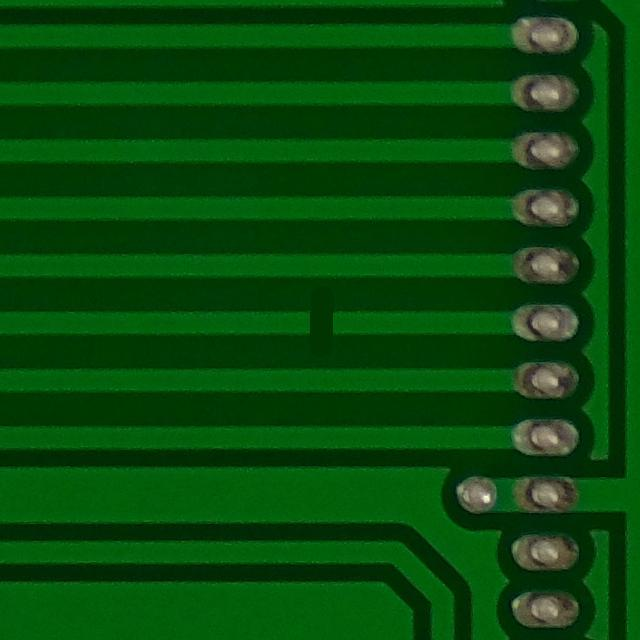open_circuit: (292, 290, 348, 351)
